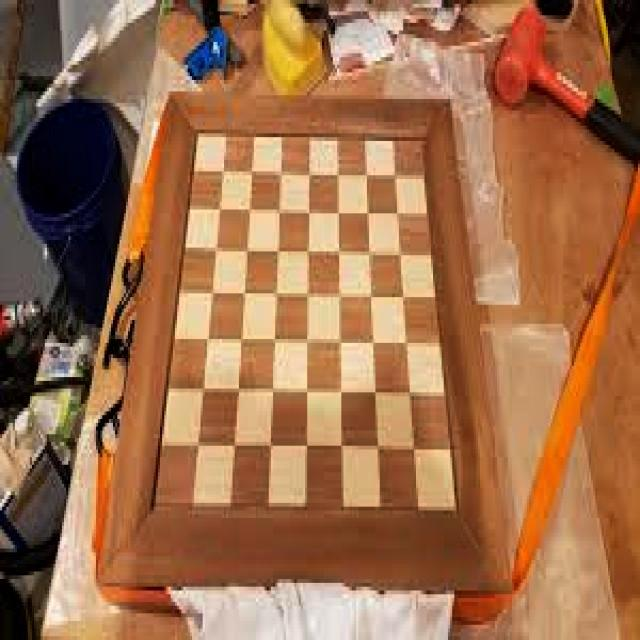chess-table-corners: (440, 480, 468, 530), (143, 477, 168, 524), (186, 112, 209, 156)
